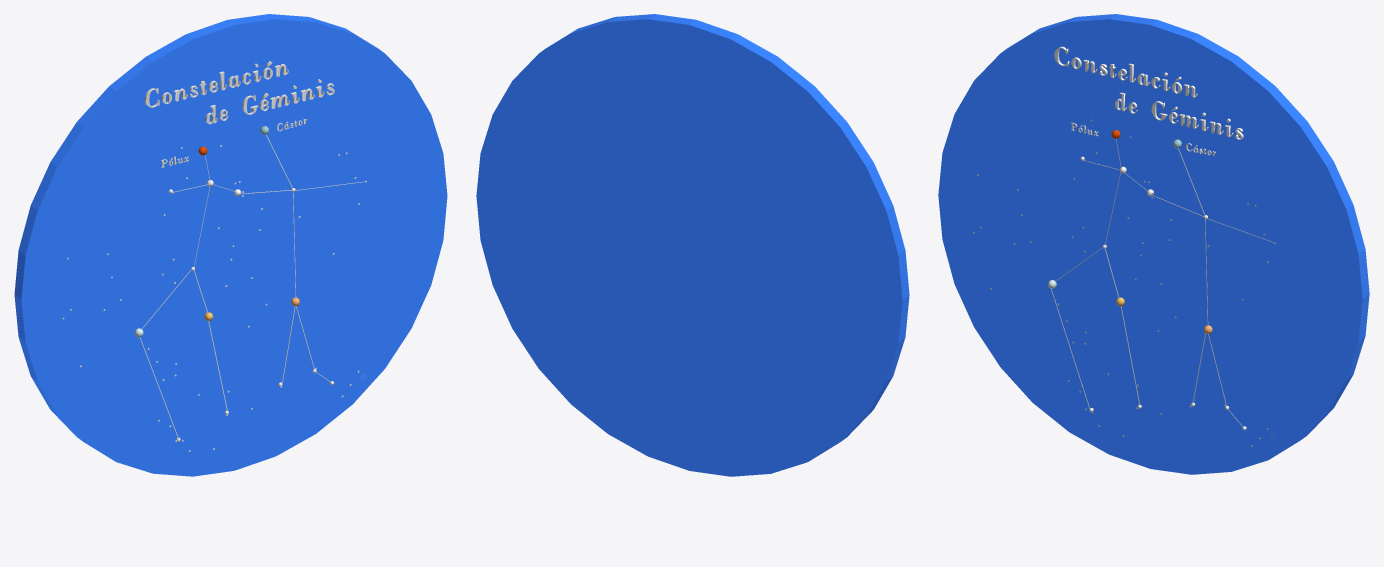
Rendered from Geminis.glb.
3 views of the same model, side by side, from view 1: azimuth 30°, elevation 25°; view 2: azimuth 150°, elevation 25°; view 3: azimuth 330°, elevation 25° (orthographic).
Parts seen in each view (by area): view 1: Círculo, Texto.009, Texto.002; view 2: Círculo; view 3: Círculo, Texto.009, Texto.002.
Boxes of the visible parts, x1,y1,x2,y2 form: Círculo: (14, 14, 447, 476); Texto.009: (144, 61, 288, 107); Texto.002: (242, 79, 334, 114); Círculo: (476, 14, 909, 476); Círculo: (938, 14, 1369, 474); Texto.009: (1054, 46, 1197, 97); Texto.002: (1151, 101, 1243, 139).
Bounding box in the file's own units: 23.94 × 28.54 × 1.12.
8 materials, 5 textured.
